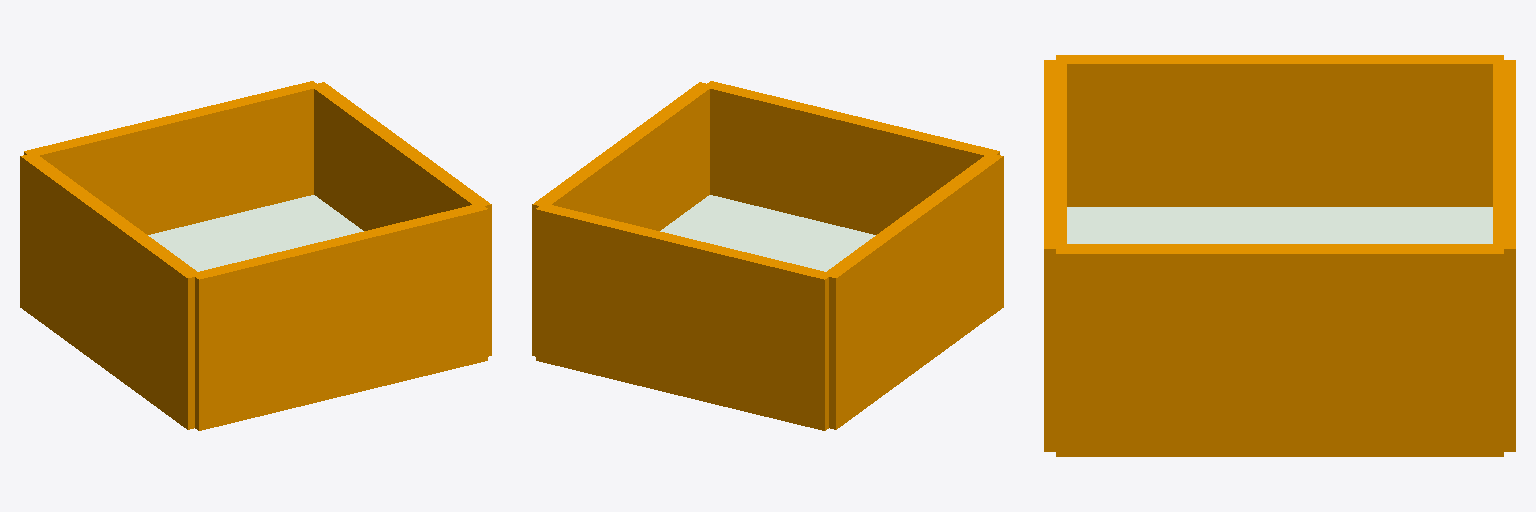
URDF robot description (box.urdf):
<?xml version="0.0" ?>
<robot name="box.urdf">
  <material name="box_side">
    <color rgba="1 0.65 0 1"/>
  </material>
  <material name="box">
      <color rgba="0.95 1 0.95 1"/>
  </material>

  <link name="world"/>
  <link name="base">
    <inertial>
      <origin rpy="0 0 0" xyz="0.0 0.0 0.0"/>
       <mass value=".1"/>
       <inertia ixx="1" ixy="0" ixz="0" iyy="1" iyz="0" izz="1"/>
    </inertial>
    <visual>
      <!-- bottom -->
      <origin rpy="0 0 0" xyz="0 0 -0.15"/>
      <geometry>
        <box size="1 1 .1"/>
      </geometry>
      <material name="box"/>
    </visual>

    <collision>
      <origin rpy="0 0 0" xyz="0 0 -0.13"/>
      <geometry>
        <box size="1 1 .1"/>
      </geometry>
    </collision>
  </link>

  <joint name="base_joint" type="fixed">
    <parent link="world"/>
    <child link="base"/>
  </joint>

  <link name="base2">
    <inertial>
      <origin rpy="0 0 0" xyz="0.0 0.0 0.0"/>
       <mass value=".1"/>
       <inertia ixx="1" ixy="0" ixz="0" iyy="1" iyz="0" izz="1"/>
    </inertial>
    <visual>
      <!-- right -->
      <origin rpy="0 0 0" xyz="0 -.5 0"/>
      <geometry>
        <box size="1 .05 .5"/>
      </geometry>
      <material name="box_side"/>
    </visual>
    <visual>
      <!-- left -->
      <origin rpy="0 0 0" xyz="0 .5 0"/>
      <geometry>
        <box size="1 .05 .5"/>
      </geometry>
      <material name="box_side"/>
    </visual>
    <visual>
      <!-- front -->
      <origin rpy="0 0 0" xyz=".5 0 0"/>
      <geometry>
        <box size=".05 1 .5"/>
      </geometry>
      <material name="box_side"/>
    </visual>
    <visual>
      <!-- back -->
      <origin rpy="0 0 0" xyz="-.5 0 0"/>
      <geometry>
        <box size=".05 1 .5"/>
      </geometry>
      <material name="box_side"/>
    </visual>

    <collision>
      <!-- right -->
      <origin rpy="0 0 0" xyz="0 -.45 0"/>
      <geometry>
        <box size="1 .05 .5"/>
      </geometry>
    </collision>
    <collision>
      <!-- left -->
      <origin rpy="0 0 0" xyz="0 .45 0"/>
      <geometry>
        <box size="1 .05 .5"/>
      </geometry>
    </collision>
    <collision>
      <!-- front -->
      <origin rpy="0 0 0" xyz=".45 0 0"/>
      <geometry>
        <box size=".05 1 .5"/>
      </geometry>
    </collision>
    <collision>
      <!-- back -->
      <origin rpy="0 0 0" xyz="-.45 0 0"/>
      <geometry>
        <box size=".05 1 .5"/>
      </geometry>
    </collision>
  </link>

  <joint name="base_joint2" type="fixed">
    <parent link="base"/>
    <child link="base2"/>
  </joint>

</robot>

--- Facts derived from the render (not from the file) ---
Views: 3 orthographic renders of the robot side by side, from view 1: azimuth 30°, elevation 25°; view 2: azimuth 150°, elevation 25°; view 3: azimuth 270°, elevation 25°.
Model box.urdf with 3 links and 2 joints (2 fixed), rooted at world, posed every joint at zero.
Visible links, largest first — view 1: base2, base; view 2: base2, base; view 3: base2, base.
Link boxes in pixels (x1=…): base2: x1=20, y1=81, x2=491, y2=430; base: x1=148, y1=195, x2=363, y2=271; base2: x1=532, y1=81, x2=1003, y2=430; base: x1=660, y1=195, x2=875, y2=271; base2: x1=1044, y1=55, x2=1515, y2=456; base: x1=1067, y1=207, x2=1492, y2=243.
Size in the robot's own frame: 1.05 by 1.05 by 0.5 metres.
Geometry: primitives only (box / cylinder / sphere), no mesh files.